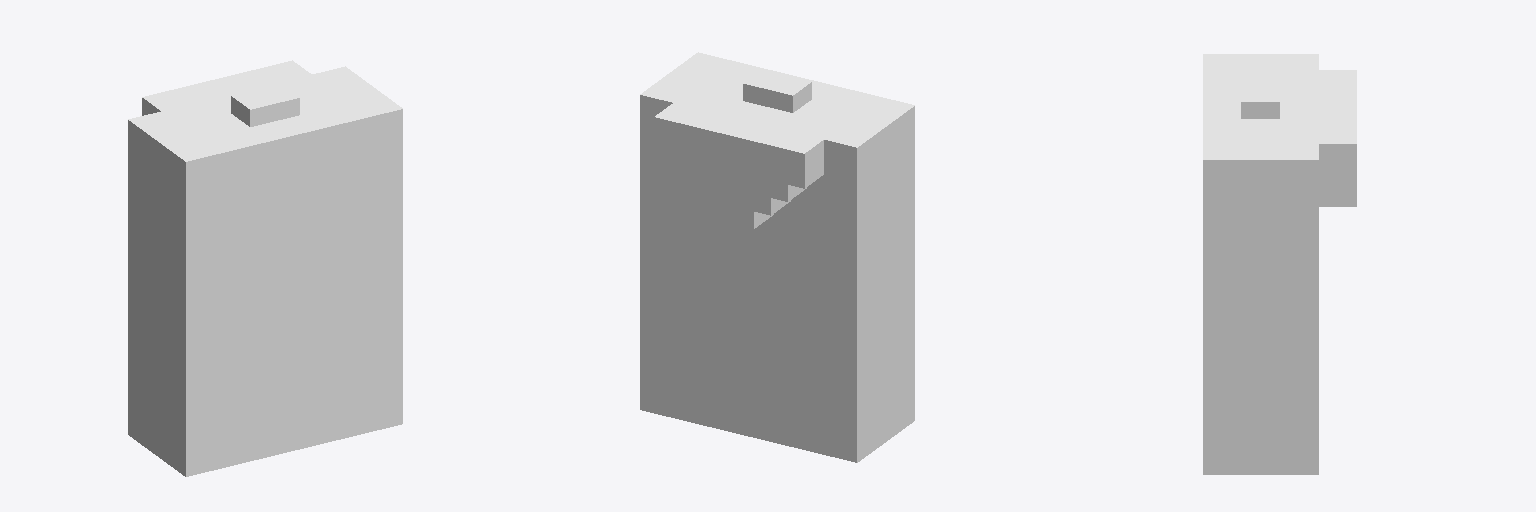
The model's file is thiefBody.obj.
3 views of the same model, side by side, from view 1: azimuth 30°, elevation 25°; view 2: azimuth 150°, elevation 25°; view 3: azimuth 270°, elevation 25° (orthographic).
Visible parts, largest first — view 1: object 1; view 2: object 1; view 3: object 1.
Boxes of the visible parts, x1,y1,x2,y2 form: object 1: [128, 60, 402, 476]; object 1: [640, 52, 914, 462]; object 1: [1203, 54, 1356, 474].
Bounding box in the file's own units: 1.3 × 1.9 × 0.8.